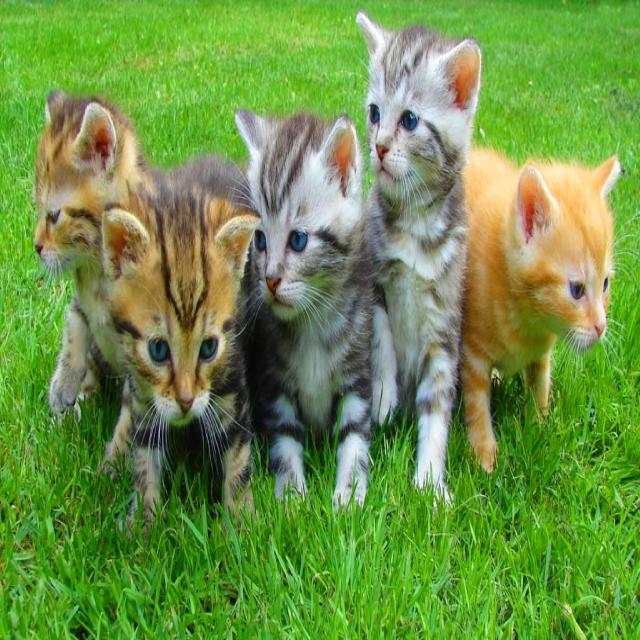cat: (357, 11, 481, 497), (102, 156, 259, 511), (236, 109, 374, 501), (461, 150, 621, 470), (35, 91, 150, 467)
